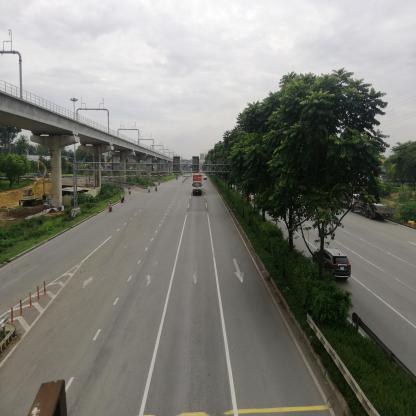car: (315, 247, 354, 283)
container: (193, 174, 205, 195)
motorbike: (121, 192, 126, 205), (109, 201, 113, 213), (129, 187, 132, 195), (148, 189, 151, 196), (157, 186, 159, 193)
